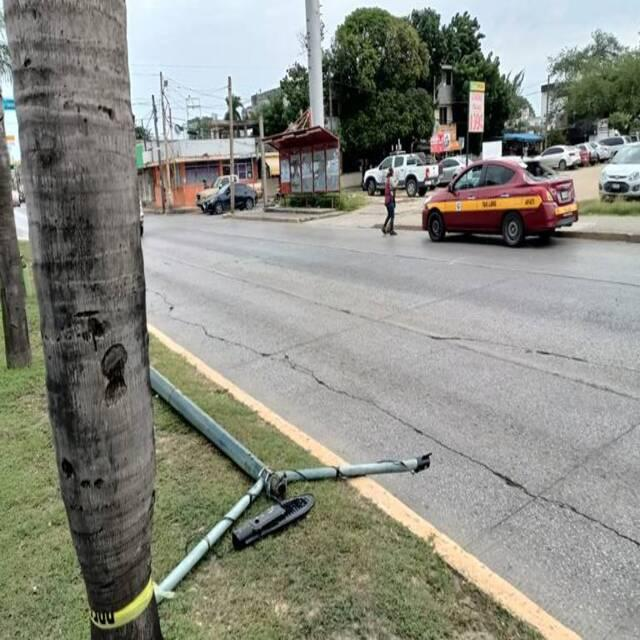Inclined Pole: (147, 360, 434, 609)
